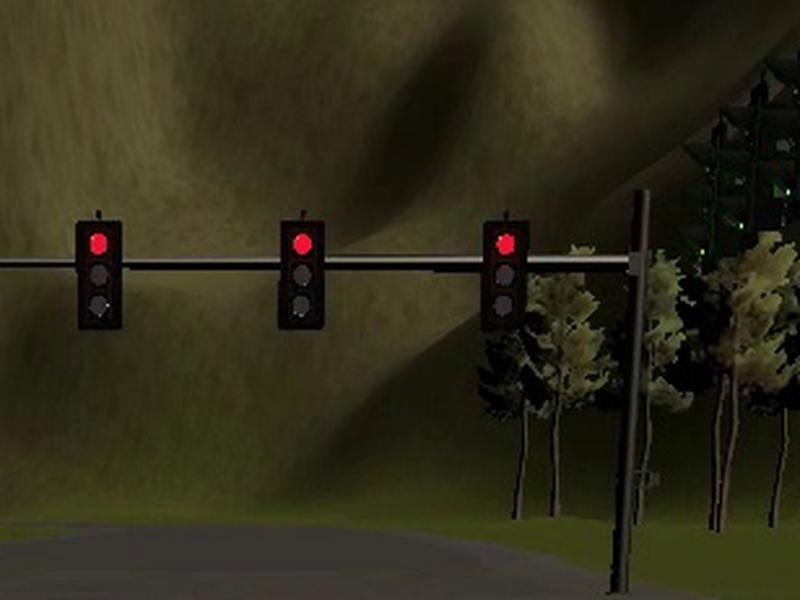Red: (479, 220, 530, 332), (277, 220, 324, 329), (76, 220, 122, 331)
